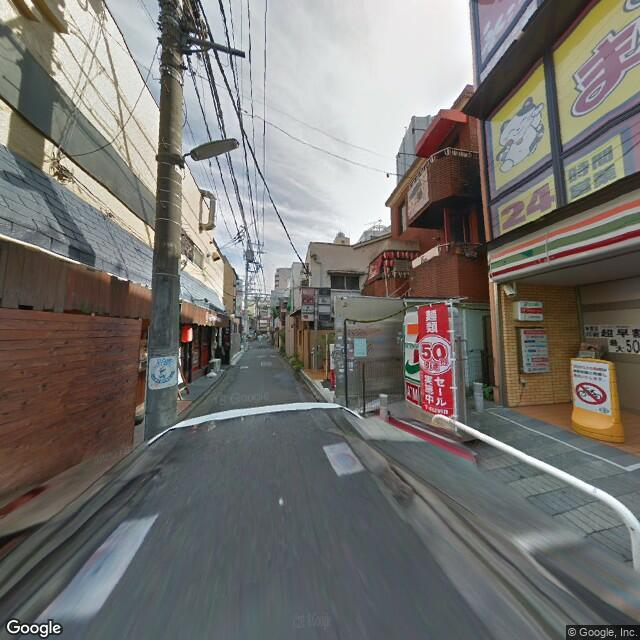7-eleven: (489, 190, 639, 281), (399, 314, 425, 374)
